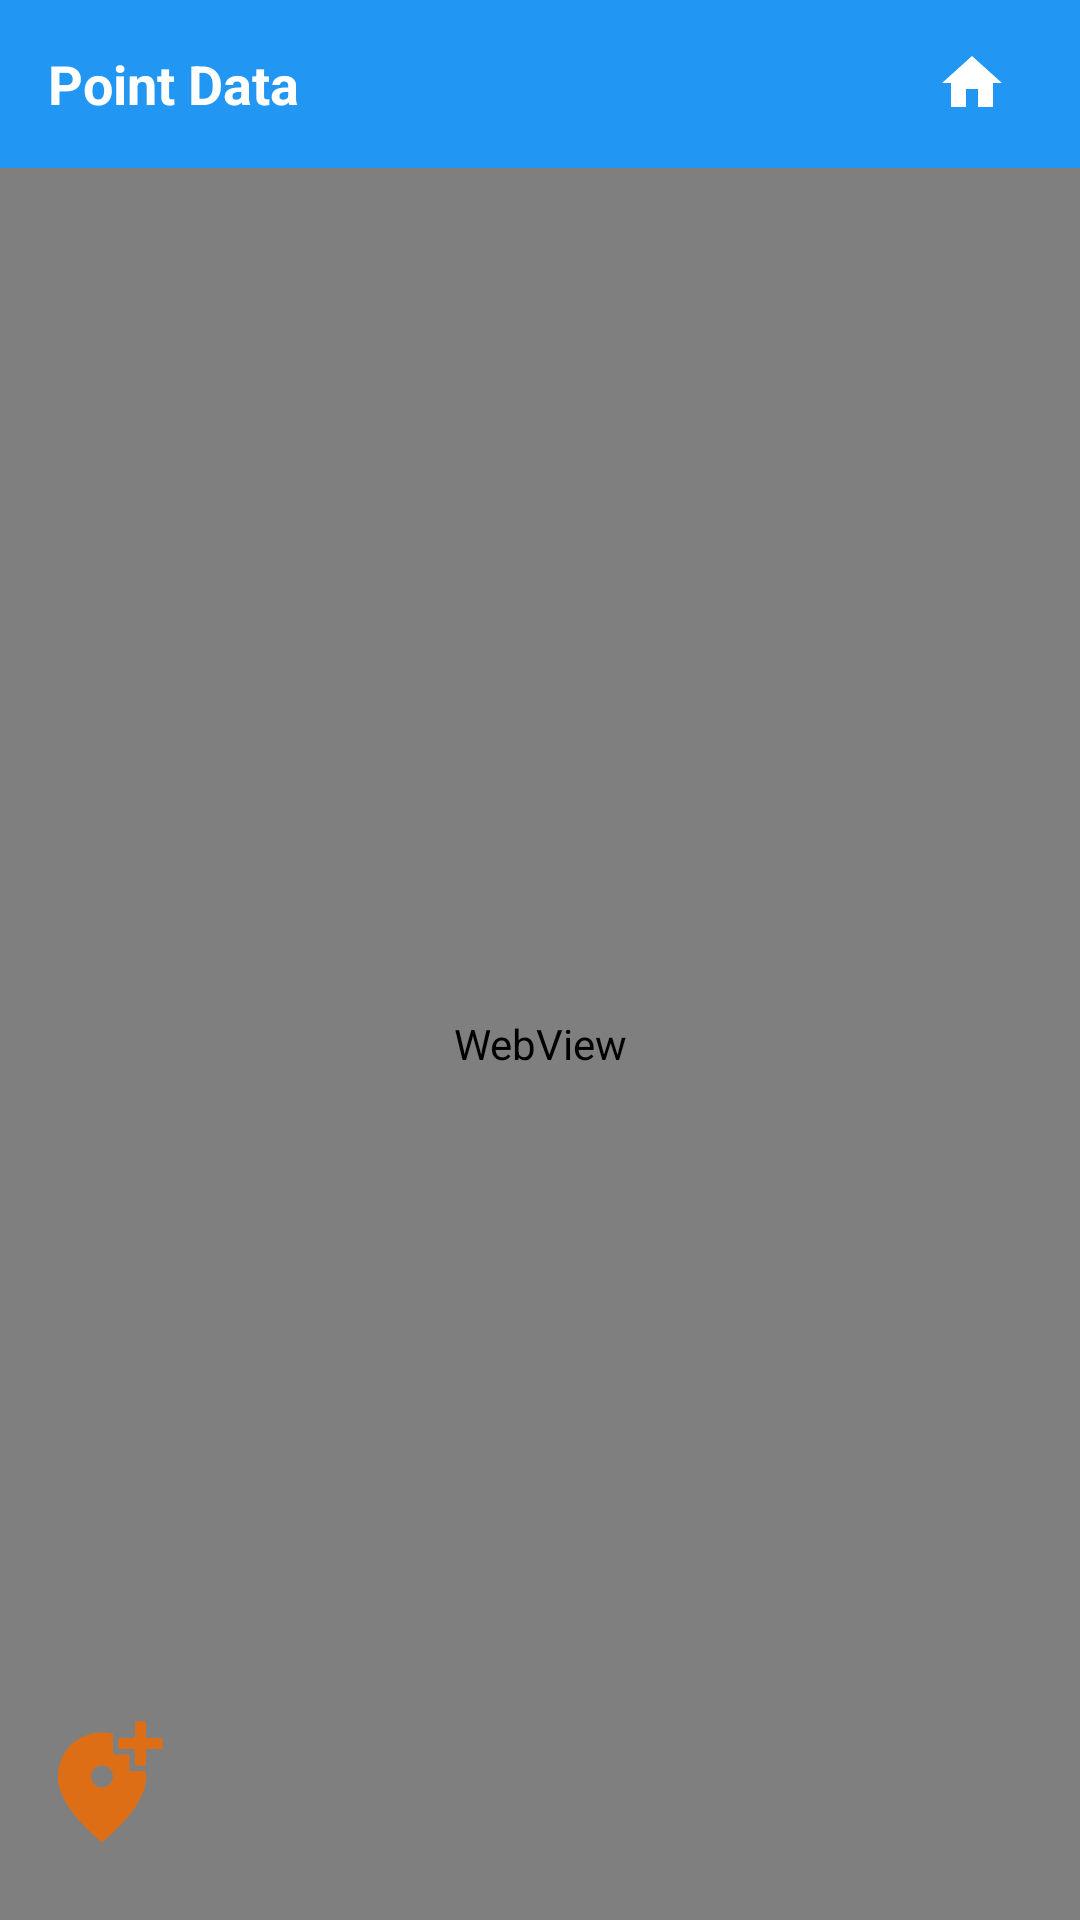

Where icons sit on this 1080*1920 app screen, as (x1, y1, x2, y2):
add location: (58, 1721, 163, 1842)
home: (942, 56, 1002, 107)
